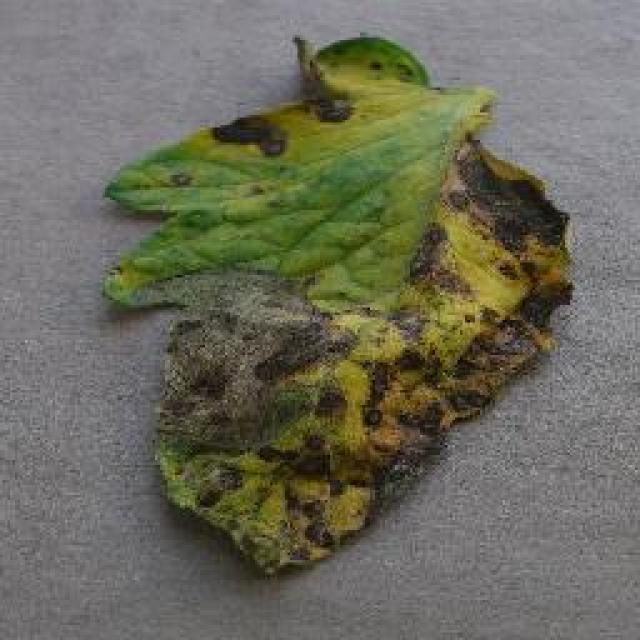Tomato___Early_blight: (98, 31, 580, 577)
